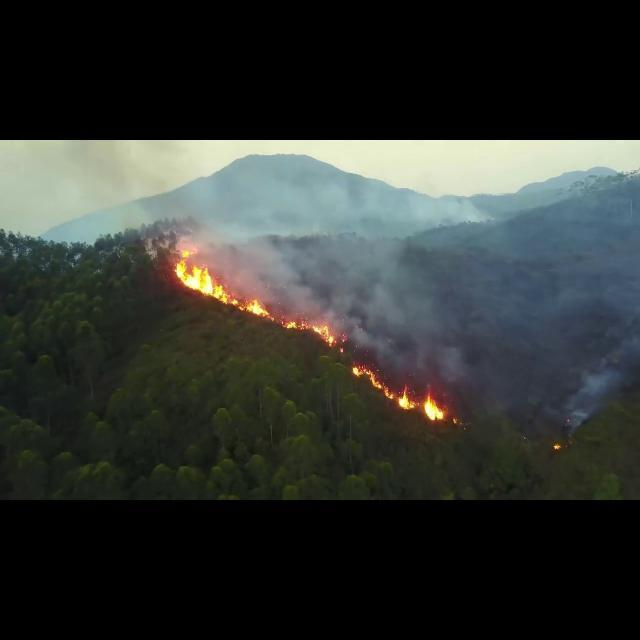Fire: (352, 362, 444, 422), (218, 288, 279, 320), (174, 258, 215, 298), (288, 319, 338, 347), (552, 442, 564, 451)
Smoke: (173, 153, 639, 245), (218, 242, 640, 285), (0, 143, 172, 237), (345, 321, 640, 362), (280, 289, 640, 320), (449, 363, 640, 419)
